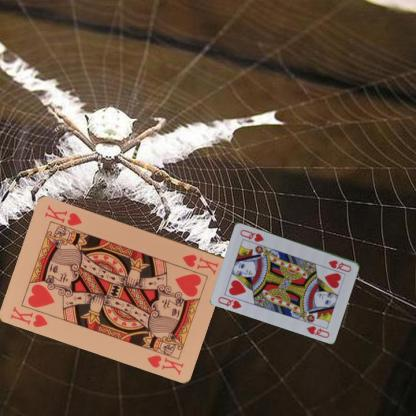Kh: (8, 304, 50, 328), (180, 252, 220, 276)
Qh: (326, 257, 353, 273), (216, 294, 243, 310)
